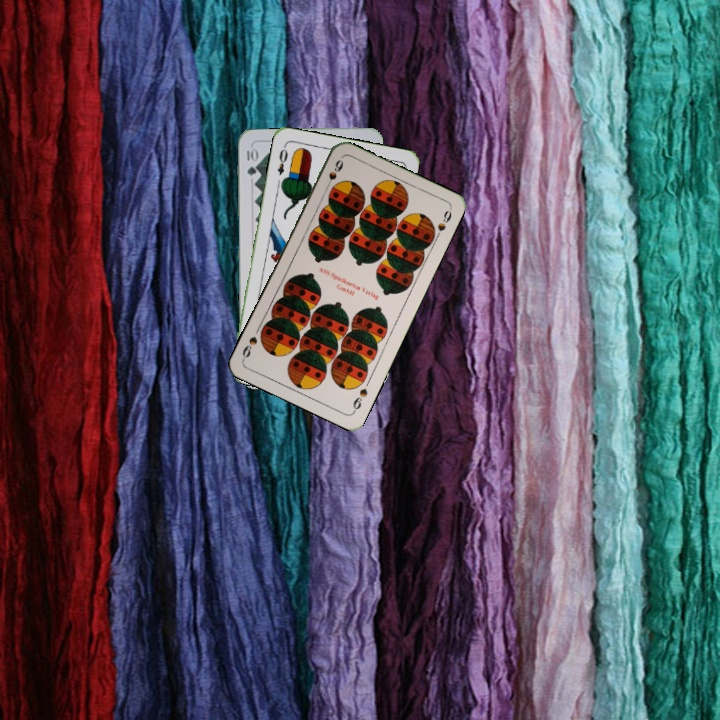EO: (273, 145, 290, 178)
G10: (243, 144, 258, 178)
S9: (321, 156, 346, 193), (349, 384, 370, 415)
